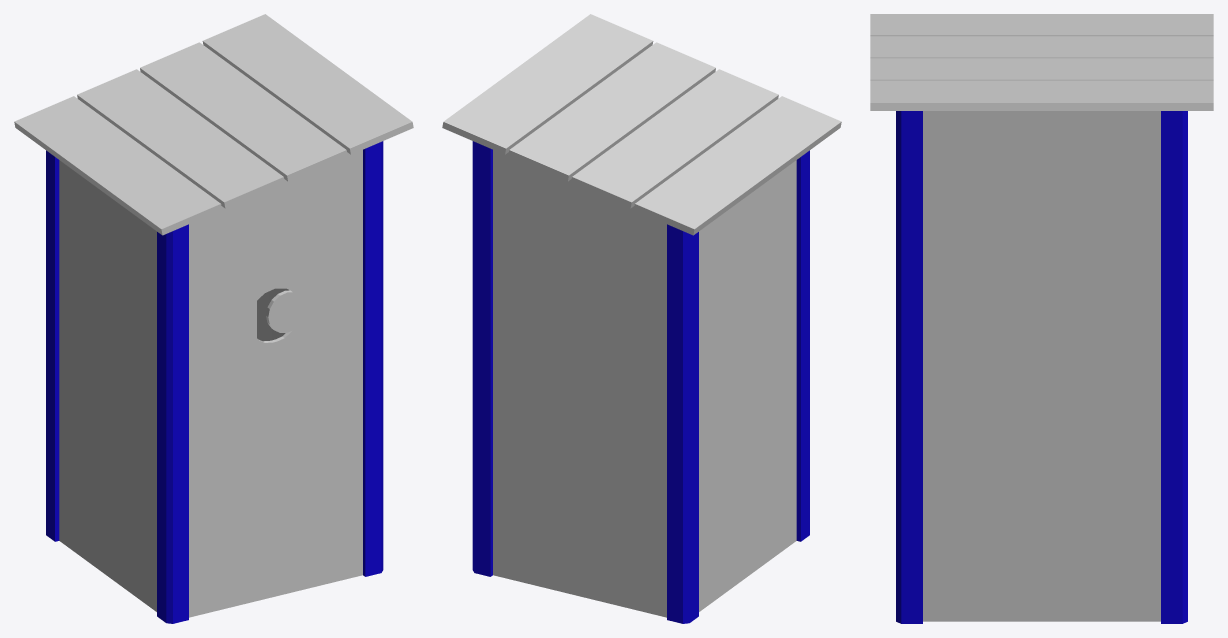
3 renders of one model, left to right at view 1: azimuth 30°, elevation 25°; view 2: azimuth 150°, elevation 25°; view 3: azimuth 270°, elevation 25°, orthographic. The views are drawn at different scales.
Parts seen in each view (by area): view 1: Cube.003, Cube.002; view 2: Cube.003; view 3: Cube.003.
Part boxes in pixels (left/top/right/bottom): Cube.003: left=14, top=14, right=413, bottom=623; Cube.002: left=189, top=230, right=362, bottom=617; Cube.003: left=442, top=14, right=841, bottom=623; Cube.003: left=870, top=14, right=1213, bottom=623.
Bounding box in the file's own units: 1.21 × 2.08 × 1.22.
